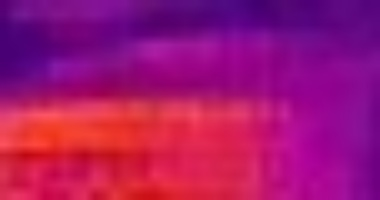Shadow: (1, 1, 380, 98), (253, 98, 380, 200)
